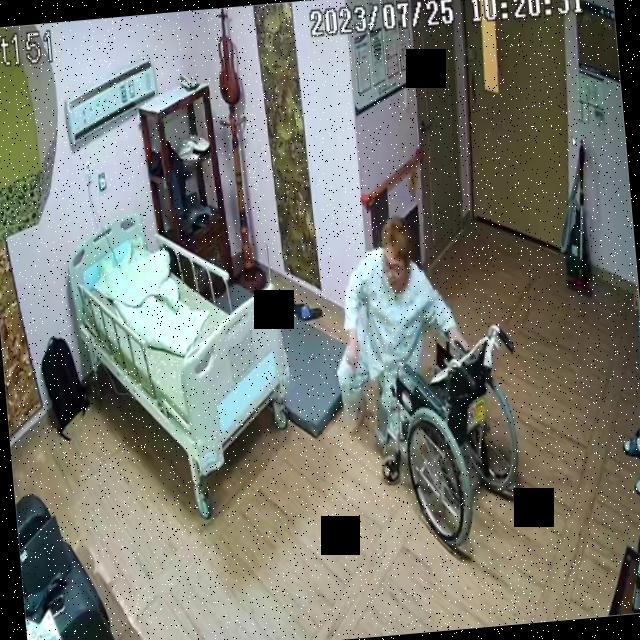danger: (324, 212, 474, 438)
patient: (324, 213, 475, 442)
wheelchair: (371, 318, 534, 558)
